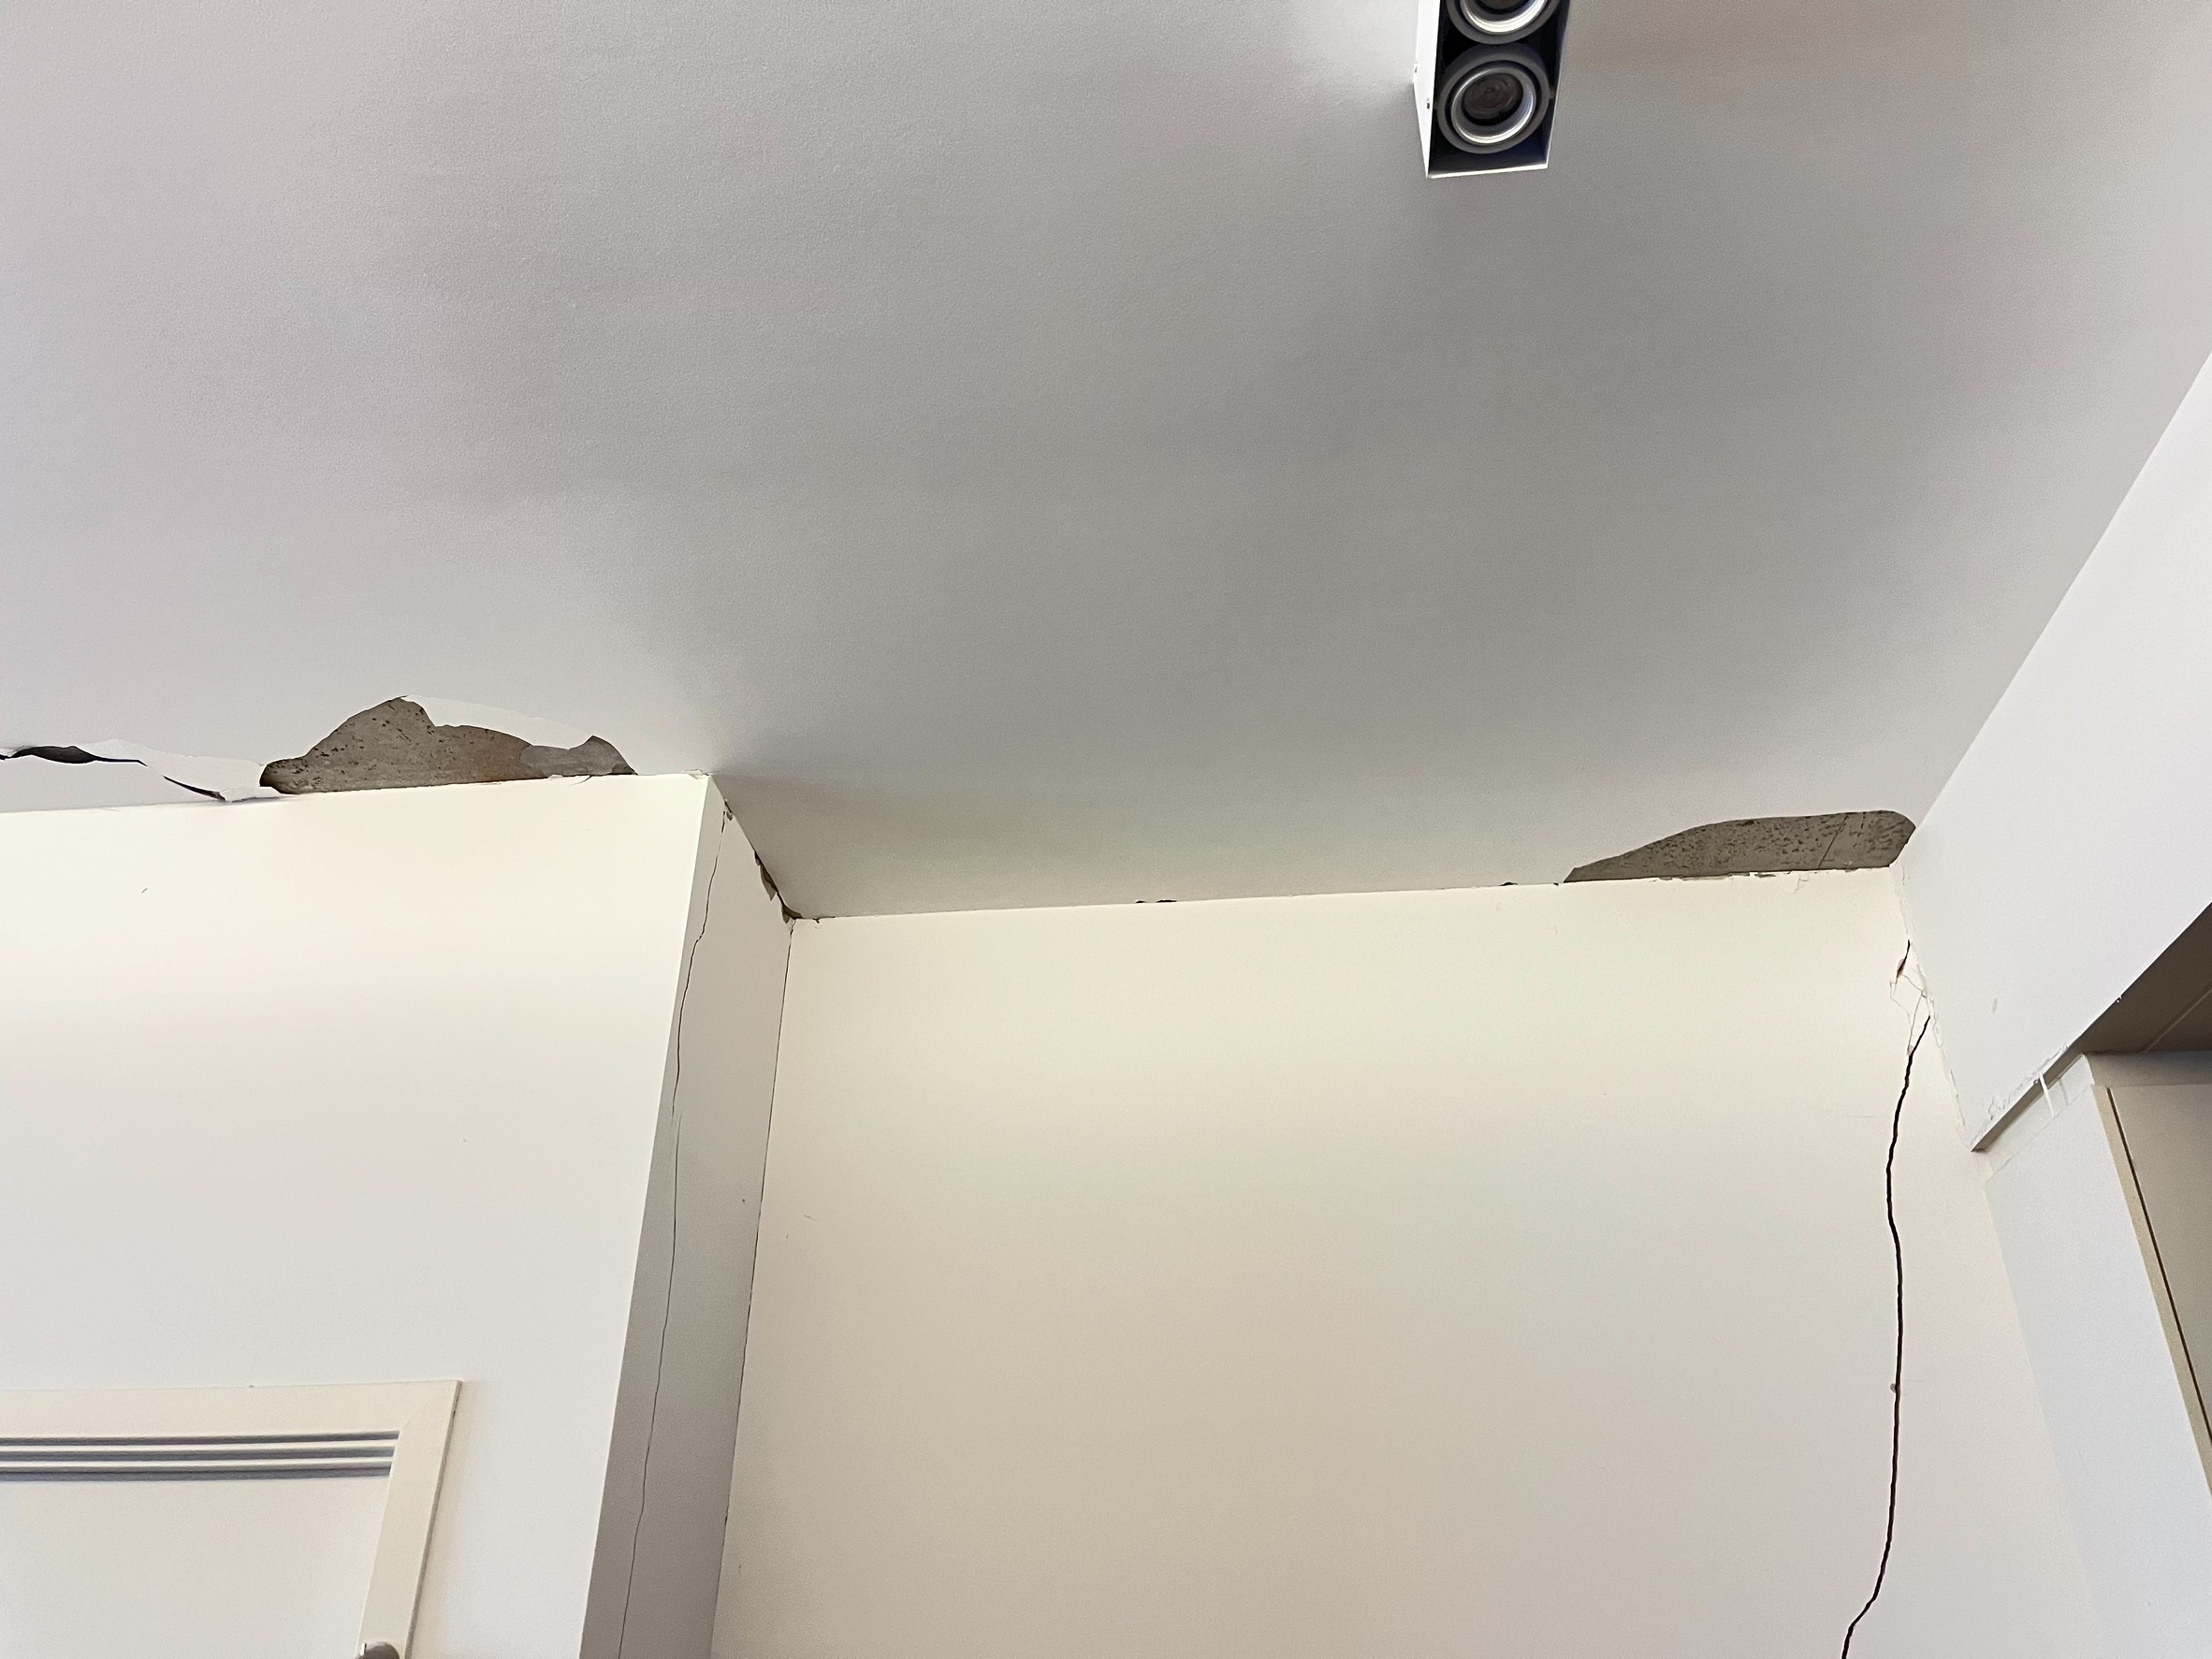Medium: (1719, 936, 1989, 1654)
